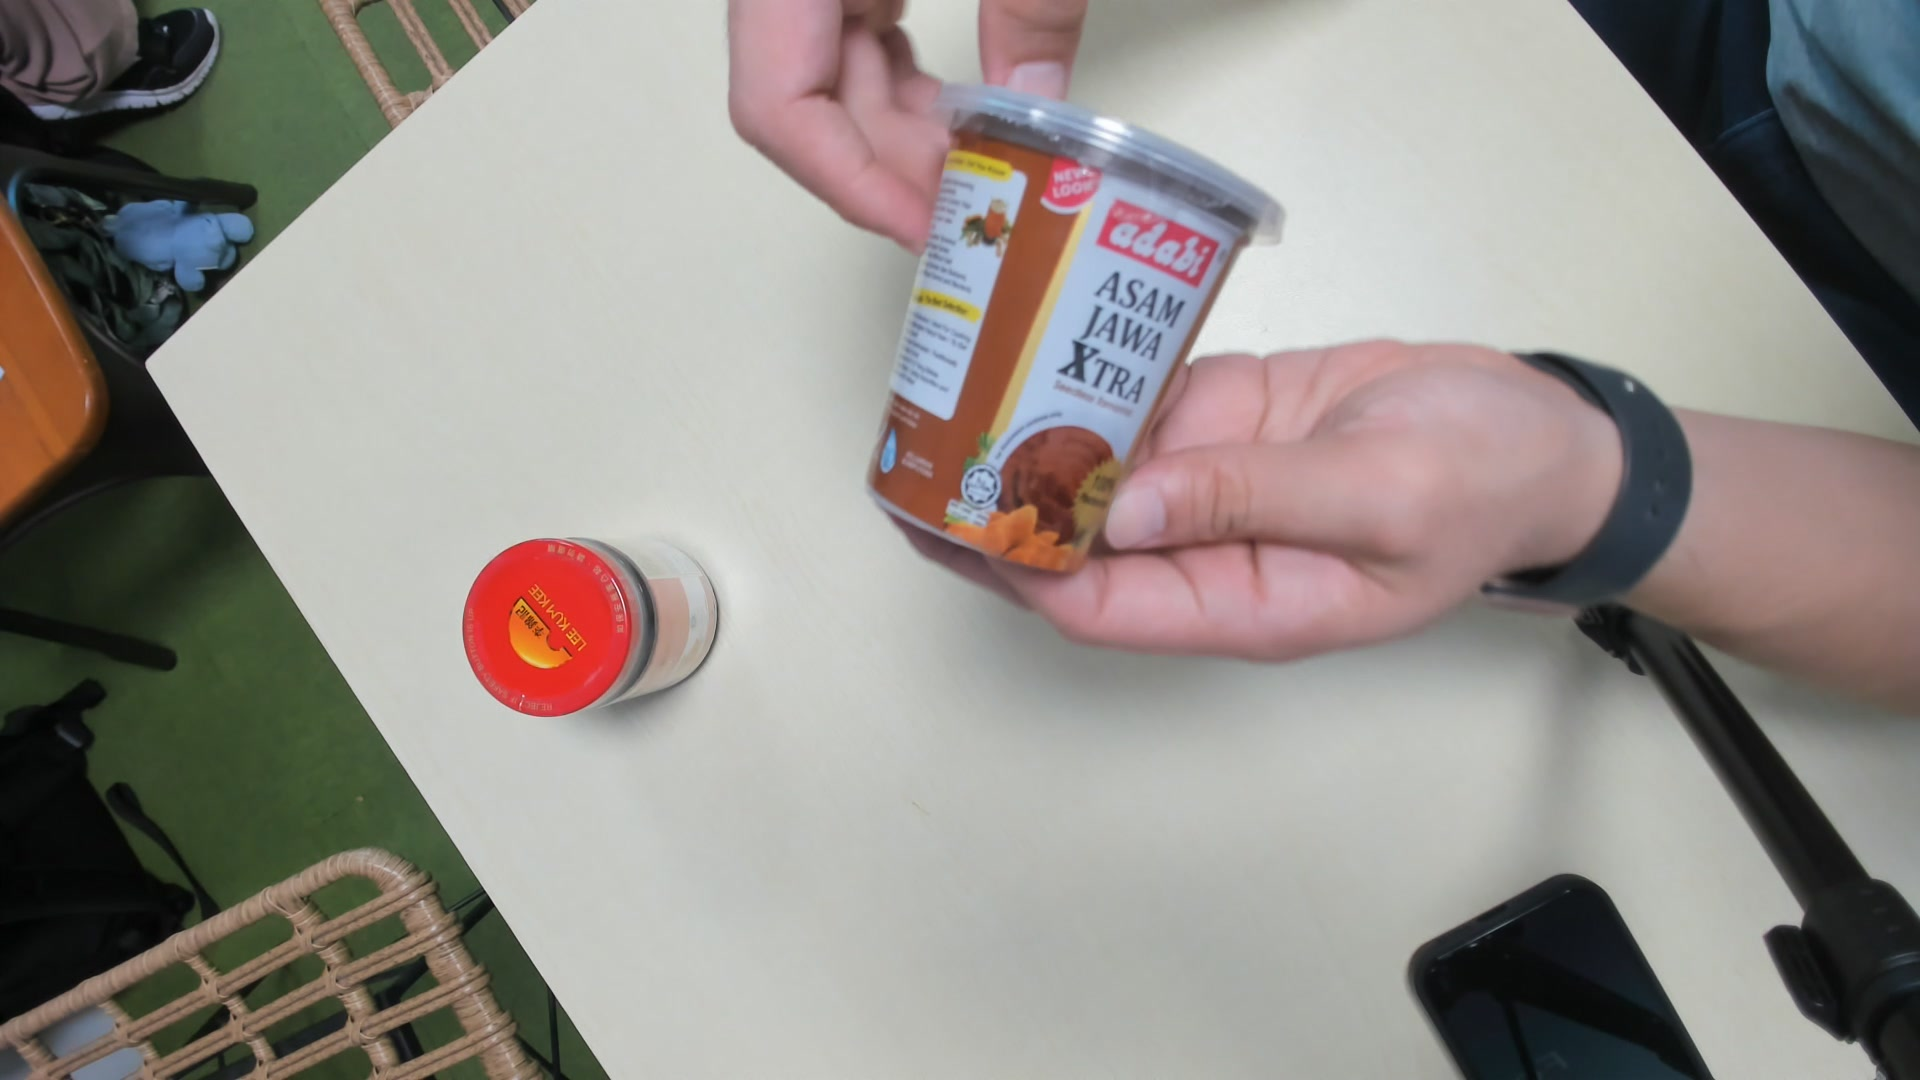OtherSauceDressing_200-299g_Halal_NonHealthy: (861, 88, 1276, 582)
